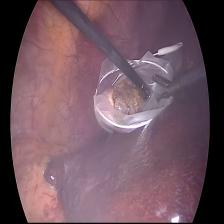Grasper: (148, 71, 182, 105), (140, 81, 151, 99)
Specimen Bag: (88, 60, 169, 154), (129, 37, 188, 82)
